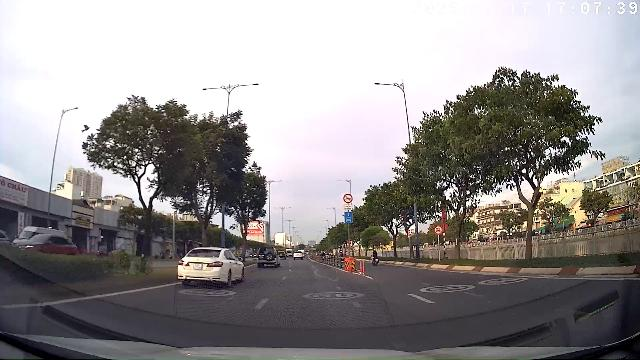103a-cam-oto: (433, 225, 443, 235)
